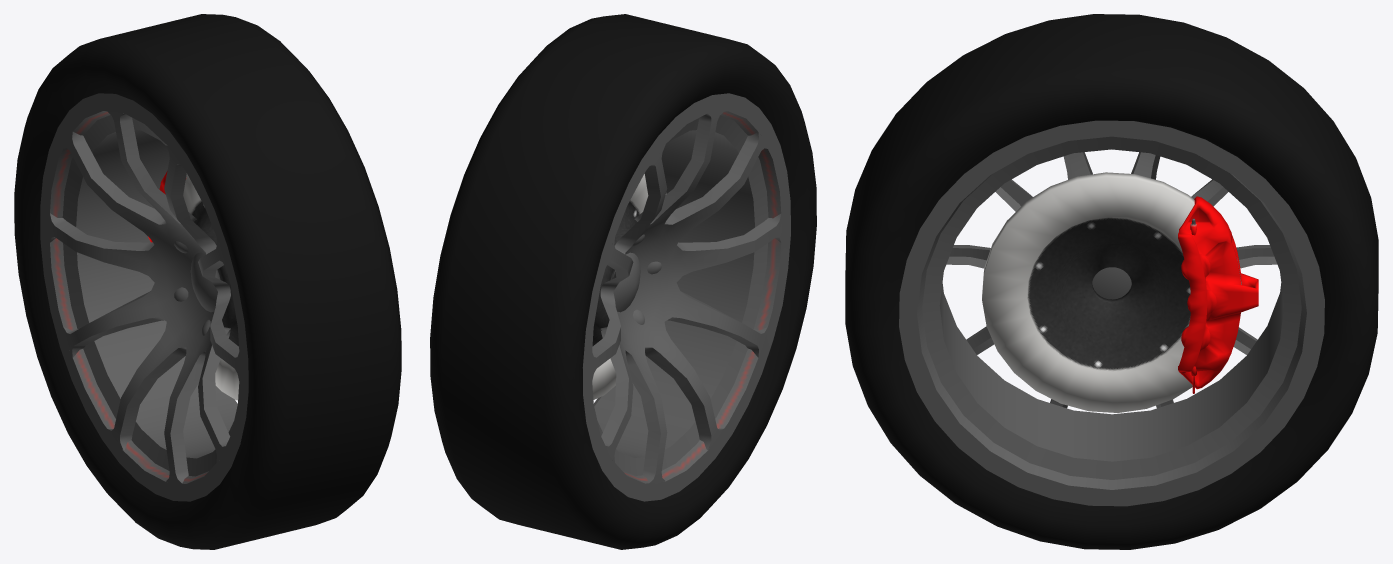
File: Wheel_20.fbx
3 renders of one model, left to right at view 1: azimuth 30°, elevation 25°; view 2: azimuth 150°, elevation 25°; view 3: azimuth 270°, elevation 25°, orthographic. The views are drawn at different scales.
Visible parts, largest first — view 1: Wheel_20_LOD0; view 2: Wheel_20_LOD0; view 3: Wheel_20_LOD0, Caliper_LOD0.
Part boxes in pixels (x1=…): Wheel_20_LOD0: x1=14, y1=14, x2=401, y2=549; Wheel_20_LOD0: x1=430, y1=14, x2=816, y2=549; Wheel_20_LOD0: x1=845, y1=14, x2=1378, y2=549; Caliper_LOD0: x1=1178, y1=196, x2=1258, y2=393.
Size of what is drawn, in the model's own units: 22.09 by 69.61 by 69.61.
